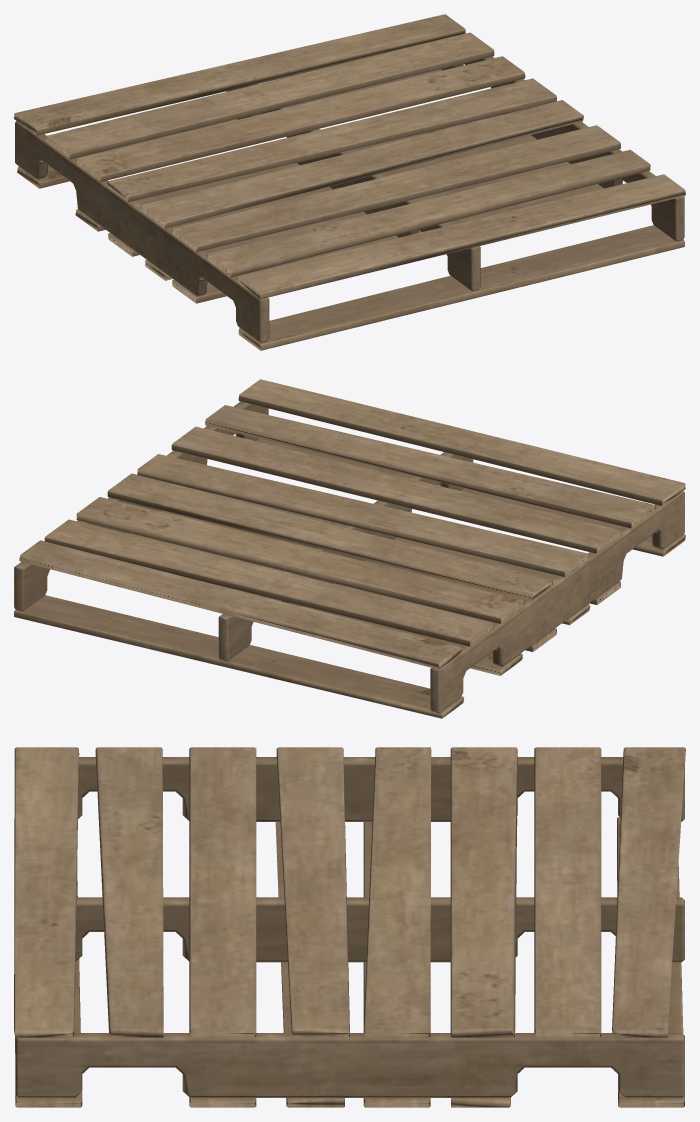
Rendered from pallet.glb.
3 renders of one model, top to bottom at view 1: azimuth 30°, elevation 25°; view 2: azimuth 150°, elevation 25°; view 3: azimuth 270°, elevation 25°, orthographic. The views are drawn at different scales.
Visible parts, largest first — view 1: pallet; view 2: pallet; view 3: pallet.
Boxes of the visible parts, x1,y1,x2,y2 form: pallet: (14, 14, 685, 350); pallet: (14, 379, 685, 718); pallet: (14, 747, 685, 1107).
Size of the model in its own units: 0.8823 by 0.1147 by 0.8852.
1 material, 1 textured.
